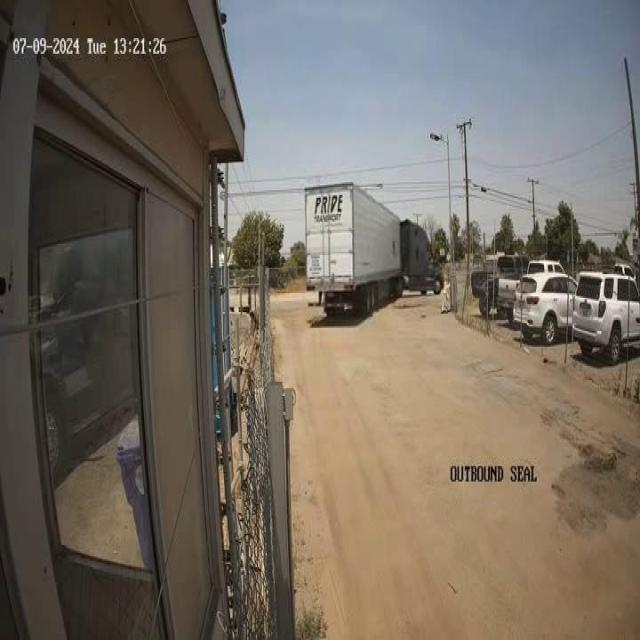TRUCK_OUT: (303, 180, 404, 318)
